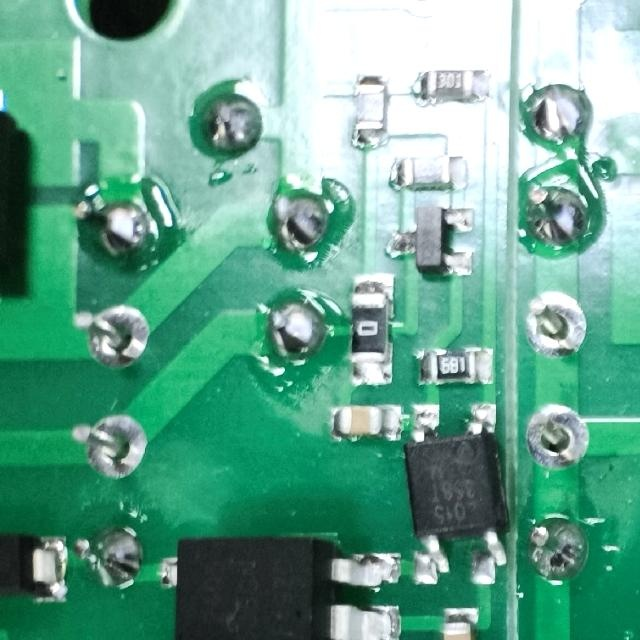chip-capacitor: (327, 403, 404, 443)
chip-resistor: (351, 271, 395, 387), (384, 155, 469, 193), (413, 347, 497, 385), (412, 68, 494, 104), (351, 73, 389, 149)
ic: (408, 398, 509, 589)
transistor: (388, 205, 475, 278)
